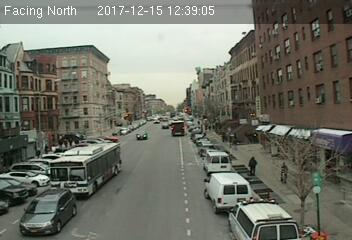bus: (46, 142, 122, 196)
car: (18, 187, 79, 235), (134, 130, 148, 140)
pedestrian: (247, 153, 259, 176), (280, 162, 288, 184)
police: (227, 198, 303, 240)
truck: (201, 171, 253, 215), (199, 149, 232, 175)
ups: (170, 121, 185, 136)
